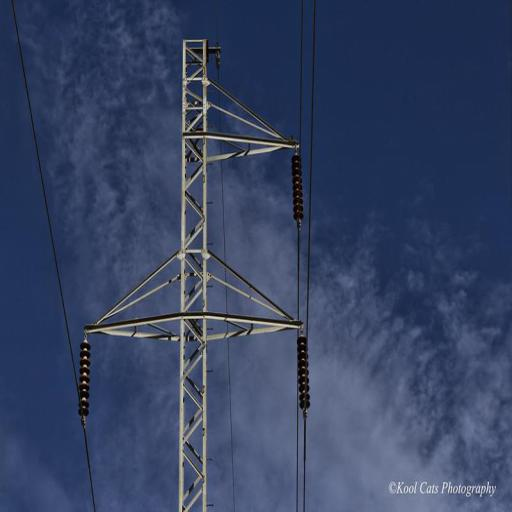ss_4: (75, 39, 308, 511)
